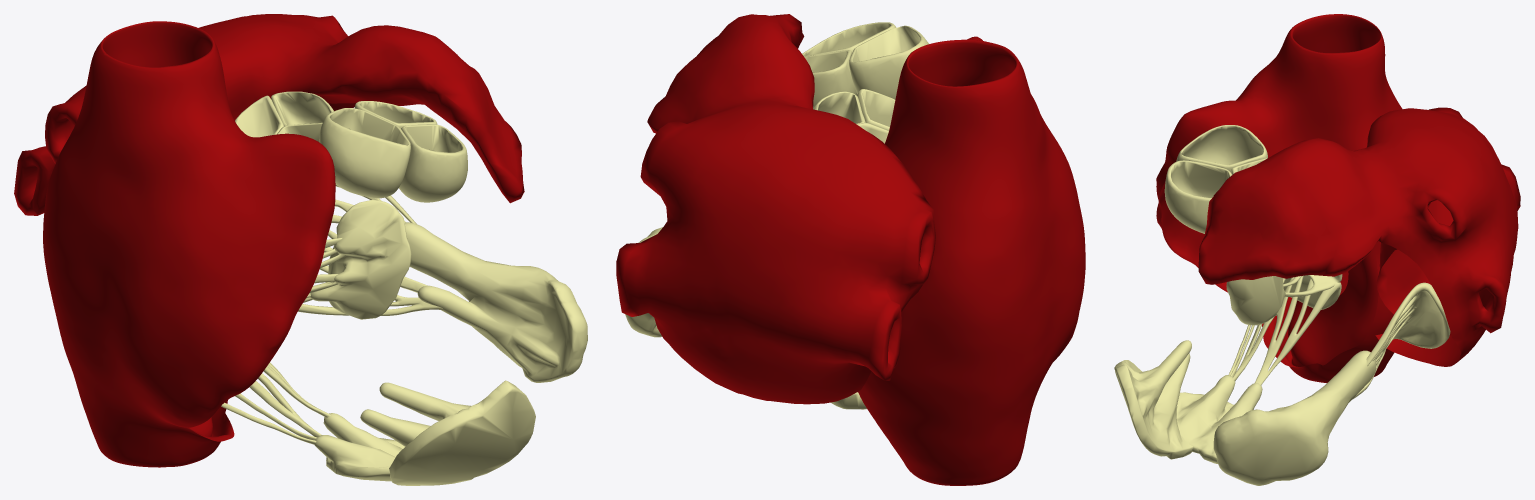
File: In Heart.glb
The picture shows the model from 3 angles, left to right: view 1: azimuth 30°, elevation 25°; view 2: azimuth 150°, elevation 25°; view 3: azimuth 270°, elevation 25°; orthographic projection. The views are drawn at different scales.
Parts seen in each view (by area): view 1: Right atrium, Left atrium, TricuspidValve, MitralValve, Pulmonary Valve, Aortic Valve; view 2: Left atrium, Right atrium, Pulmonary Valve, Aortic Valve, MitralValve; view 3: Left atrium, Right atrium, TricuspidValve, MitralValve, Pulmonary Valve.
Part boxes in pixels (left/top/right/bottom): Right atrium: left=43, top=21, right=335, bottom=467; Left atrium: left=14, top=14, right=524, bottom=215; TricuspidValve: left=221, top=199, right=535, bottom=485; MitralValve: left=298, top=185, right=587, bottom=382; Pulmonary Valve: left=319, top=101, right=467, bottom=202; Aortic Valve: left=235, top=91, right=333, bottom=141; Left atrium: left=616, top=14, right=935, bottom=404; Right atrium: left=858, top=36, right=1085, bottom=485; Pulmonary Valve: left=802, top=22, right=928, bottom=107; Aortic Valve: left=813, top=89, right=895, bottom=143; MitralValve: left=625, top=227, right=662, bottom=337; Left atrium: left=1198, top=107, right=1520, bottom=366; Right atrium: left=1156, top=14, right=1402, bottom=382; TricuspidValve: left=1114, top=274, right=1342, bottom=463; MitralValve: left=1213, top=282, right=1450, bottom=485; Pulmonary Valve: left=1164, top=125, right=1267, bottom=233.
Size of the model in its own units: 0.1148 by 0.1036 by 0.109.
